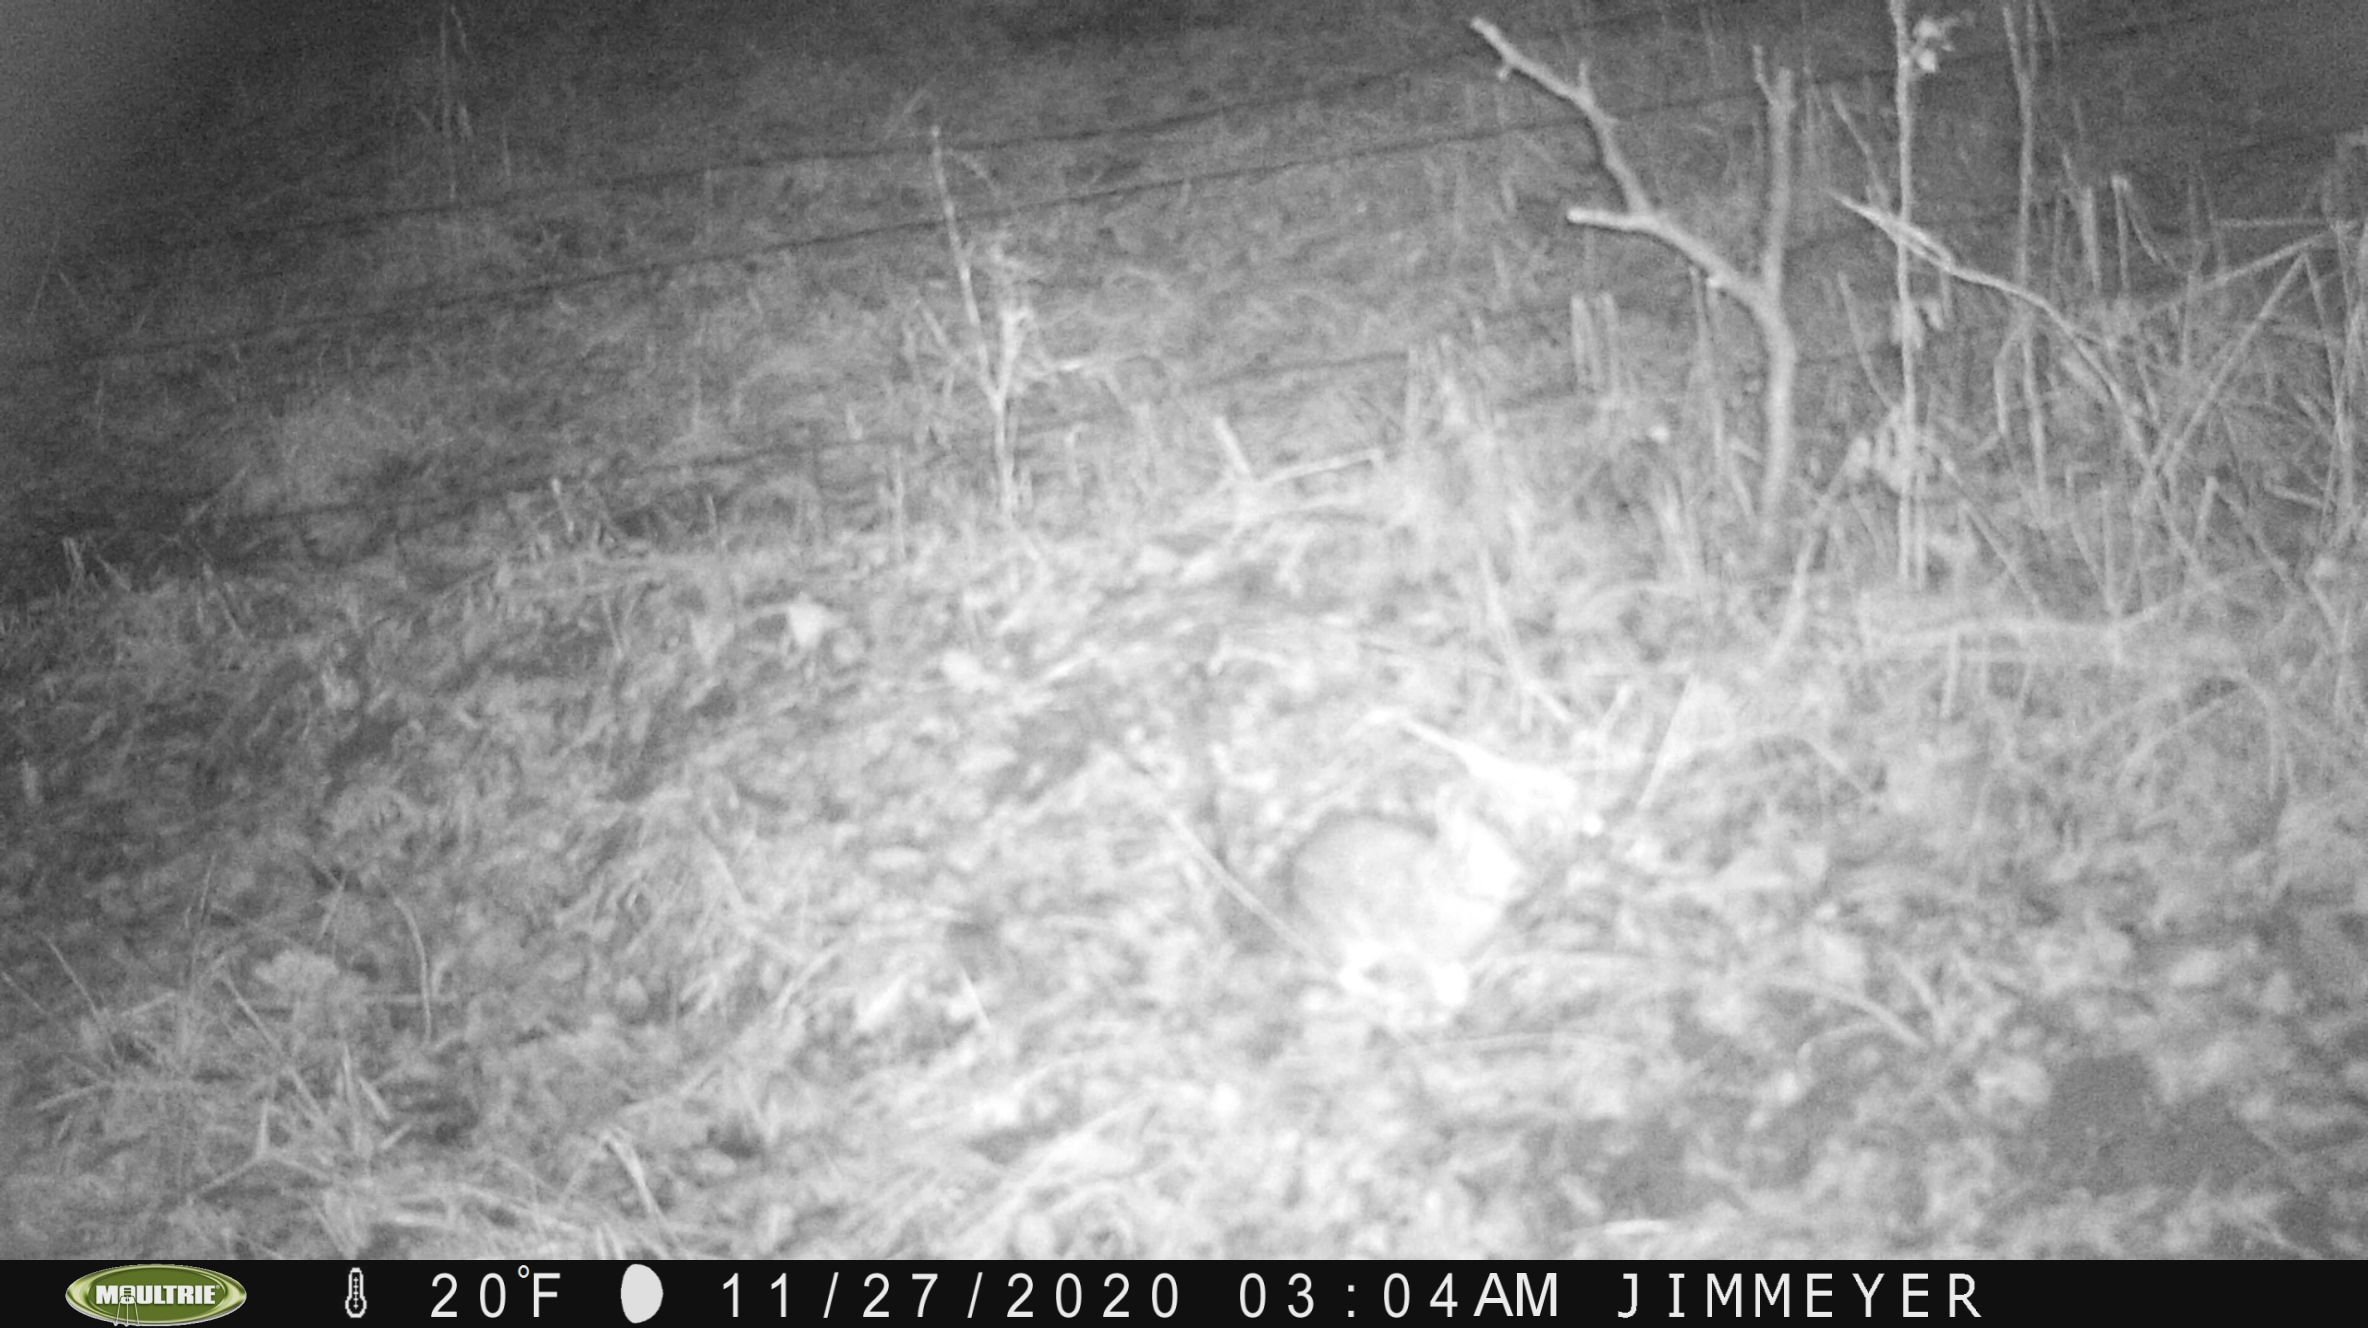Rabbit: (1293, 775, 1543, 1001)
